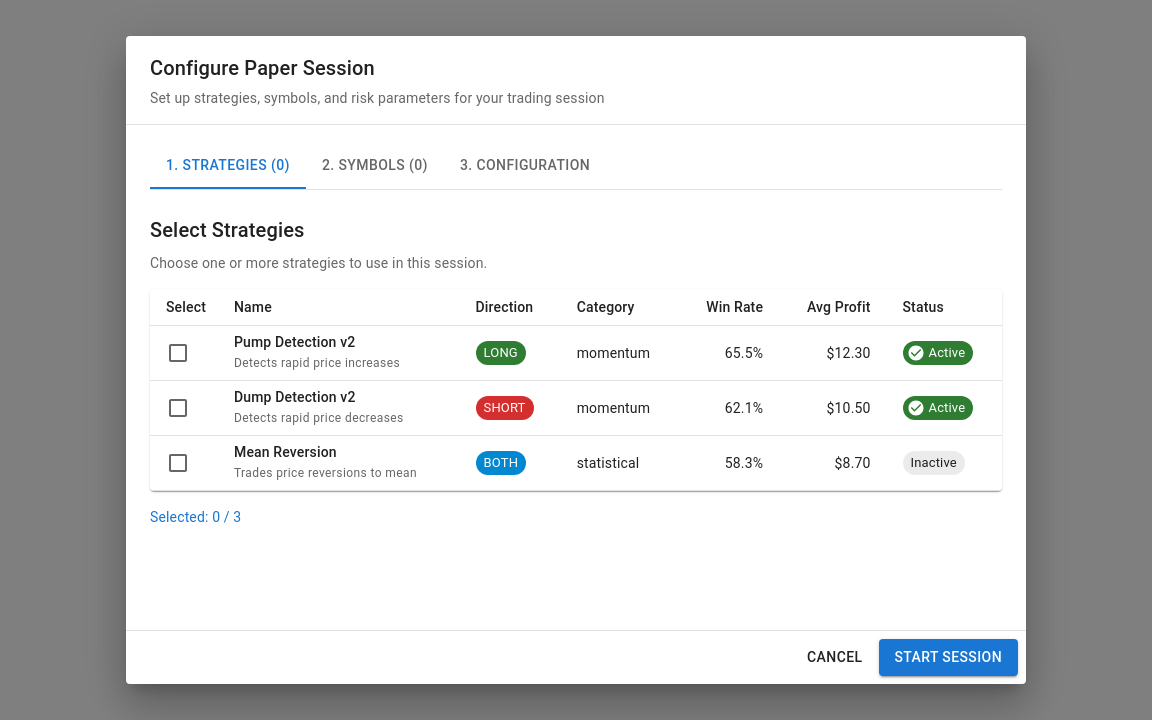
Test: SessionConfigDialog › Strategy Selection › allows selecting multiple strategies
Expected: the text "Pump Detection v2" is shown, [234, 334, 355, 350]
Note: Select two strategies
Click the checkbox next to "Pump Detection v2" at (178, 353), box [166, 341, 190, 365]
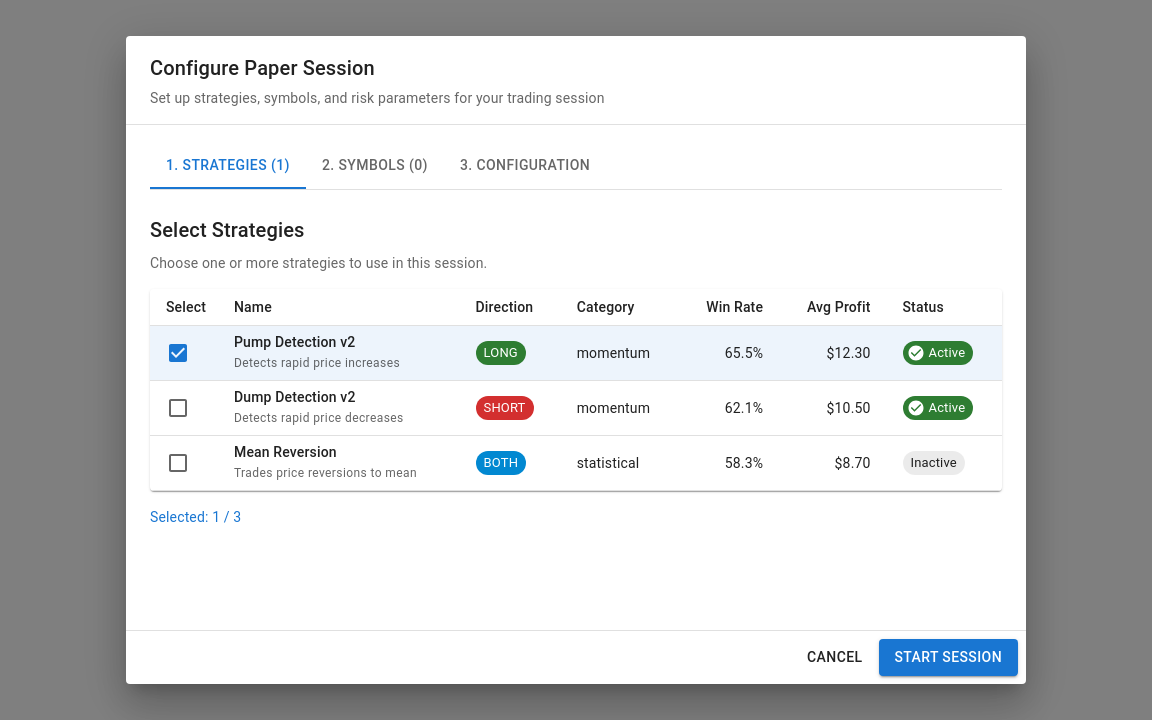
Click the checkbox next to "Dump Detection v2" at (178, 408), box [166, 396, 190, 420]
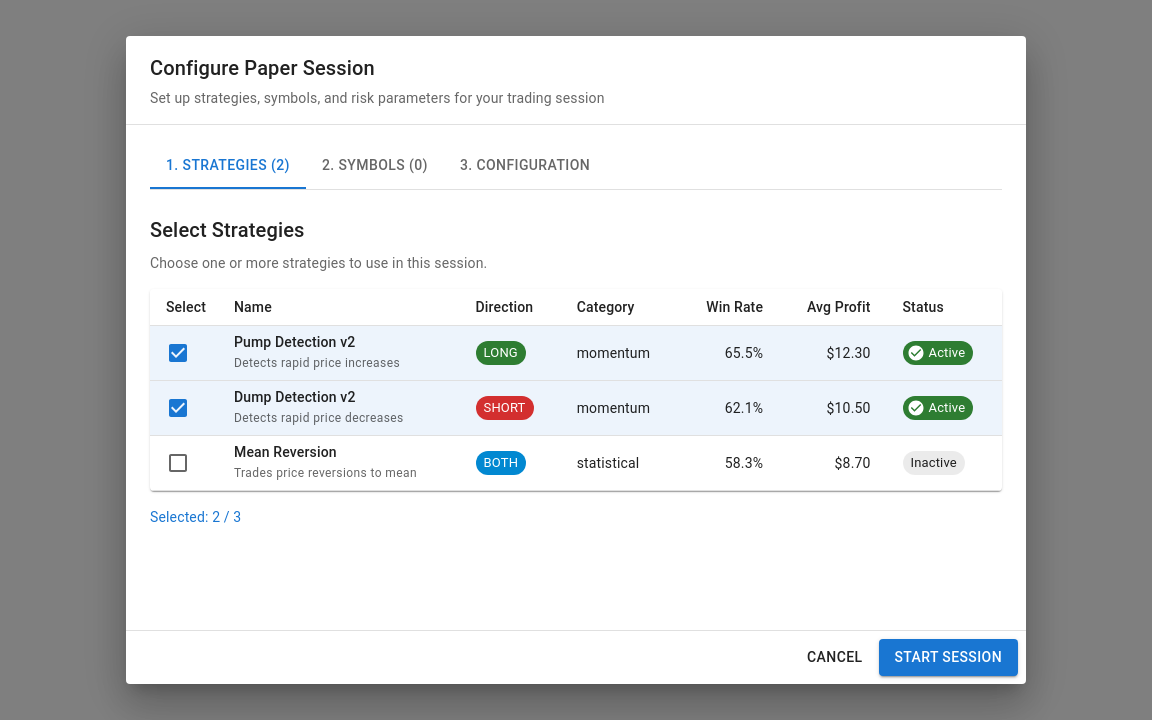
Now the tab "1. Strategies (2)" is shown, box [150, 141, 306, 189]
